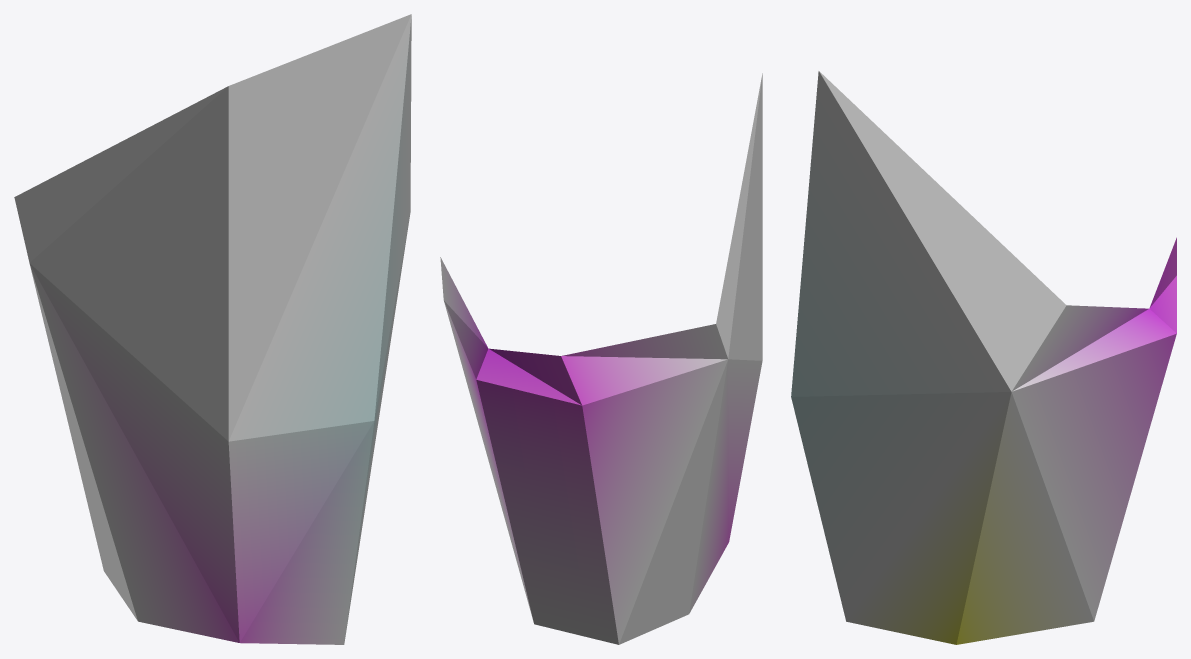
3 views of the same model, side by side, from view 1: azimuth 30°, elevation 25°; view 2: azimuth 150°, elevation 25°; view 3: azimuth 270°, elevation 25° (orthographic). The views are drawn at different scales.
Parts seen in each view (by area): view 1: model_1124; view 2: model_1124; view 3: model_1124.
Part boxes in pixels (left/top/right/bottom): model_1124: left=14, top=14, right=411, bottom=644; model_1124: left=440, top=73, right=762, bottom=644; model_1124: left=791, top=71, right=1176, bottom=644.
Bounding box in the file's own units: 14 × 23 × 14.
